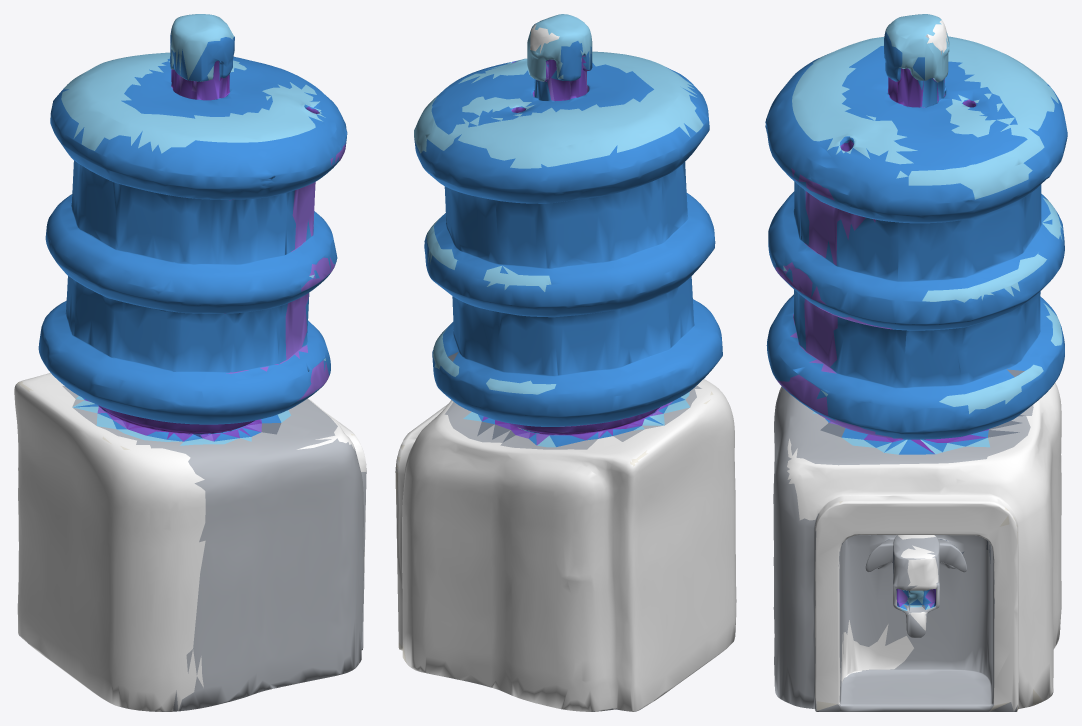
The model's file is SM_water_dispenser.fbx.
3 views of the same model, side by side, from view 1: azimuth 30°, elevation 25°; view 2: azimuth 150°, elevation 25°; view 3: azimuth 270°, elevation 25° (orthographic). The views are drawn at different scales.
Visible parts, largest first — view 1: SM_water_dispenser; view 2: SM_water_dispenser; view 3: SM_water_dispenser.
Boxes of the visible parts, box(x1,y1,x2,y2) form: SM_water_dispenser: box(14, 14, 366, 711); SM_water_dispenser: box(395, 14, 736, 711); SM_water_dispenser: box(765, 14, 1067, 711).
Size of the model in its own units: 45.58 by 100 by 43.2.
1 material, 1 textured.
